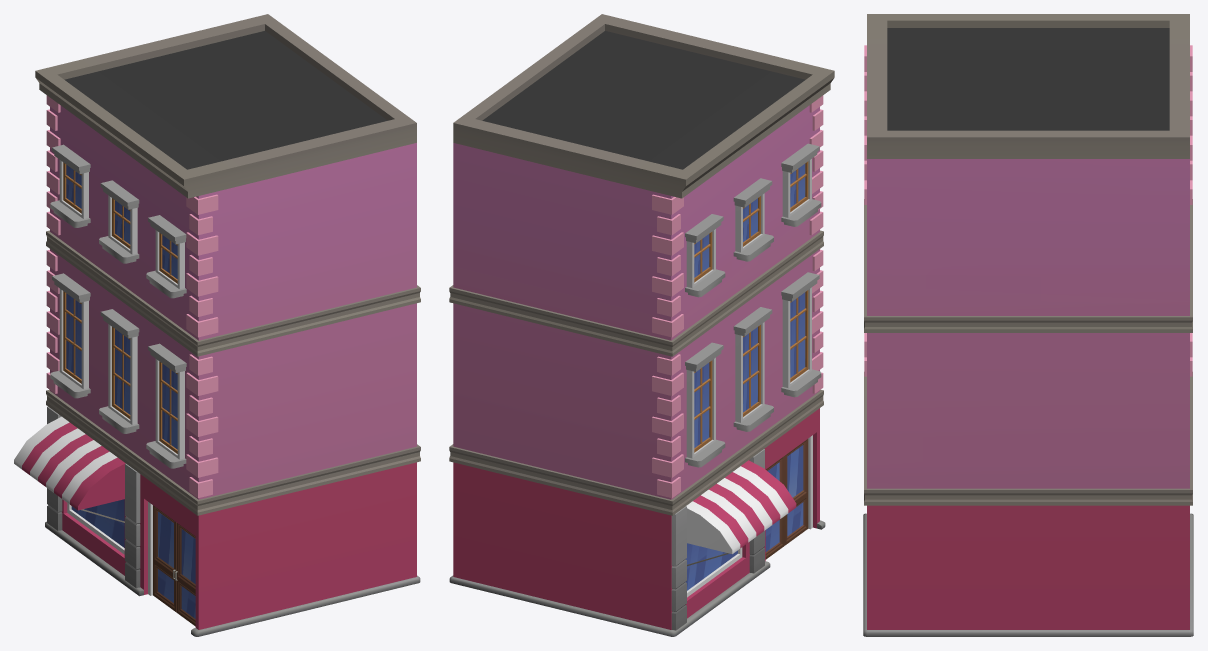
Rendered from Building_8_1_S.fbx.
3 views of the same model, side by side, from view 1: azimuth 30°, elevation 25°; view 2: azimuth 150°, elevation 25°; view 3: azimuth 270°, elevation 25° (orthographic). The views are drawn at different scales.
Visible parts, largest first — view 1: Building 8_1_S; view 2: Building 8_1_S; view 3: Building 8_1_S.
Boxes of the visible parts, left/top/right/bottom form: Building 8_1_S: left=14, top=14, right=420, bottom=636; Building 8_1_S: left=449, top=14, right=834, bottom=636; Building 8_1_S: left=863, top=14, right=1193, bottom=636.
Size of the model in its own units: 681 by 1108 by 667.
